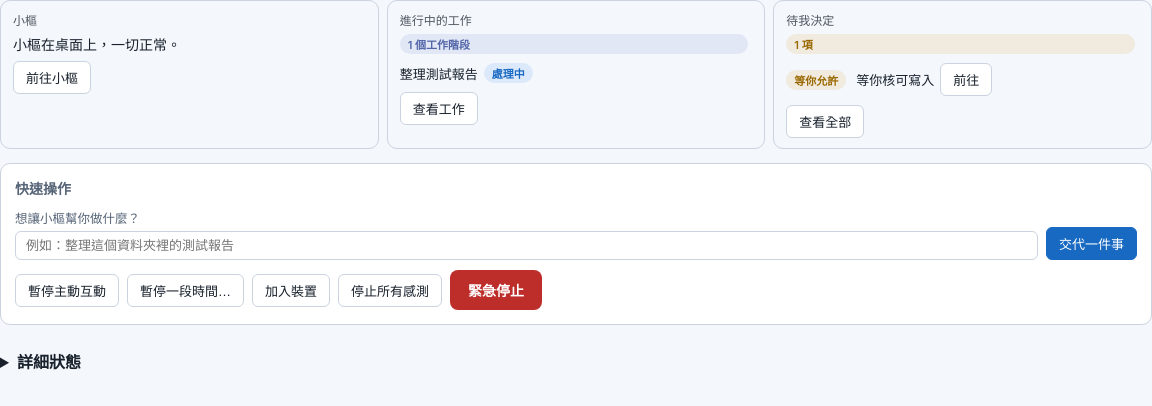
Test case: 快速操作 › 暫停主動互動反映後端狀態；失敗要看得見
Expected: the text "小樞在桌面上，一切正常。" is shown, [13,36,181,53]
Step 1. Click the button "暫停主動互動" → (67, 290), box [15,274,119,306]
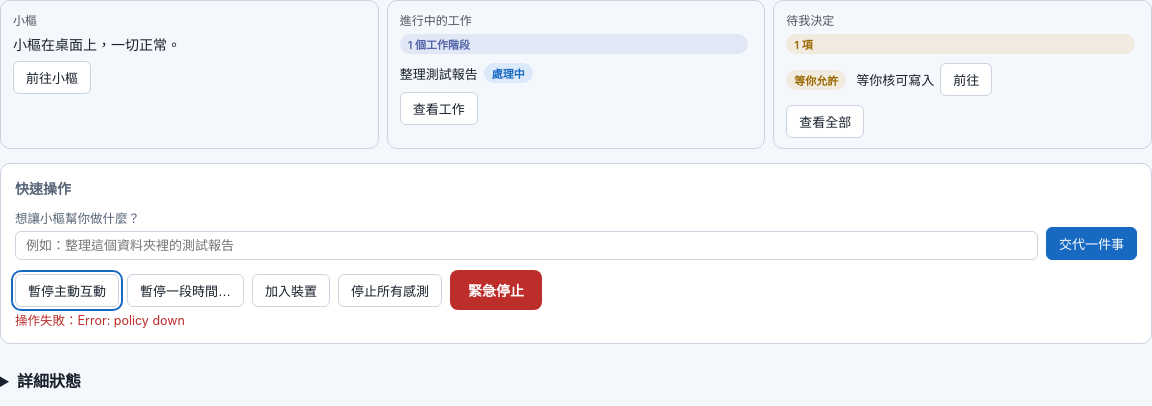
Expected: the message shows "操作失敗", [15,313,78,328]
